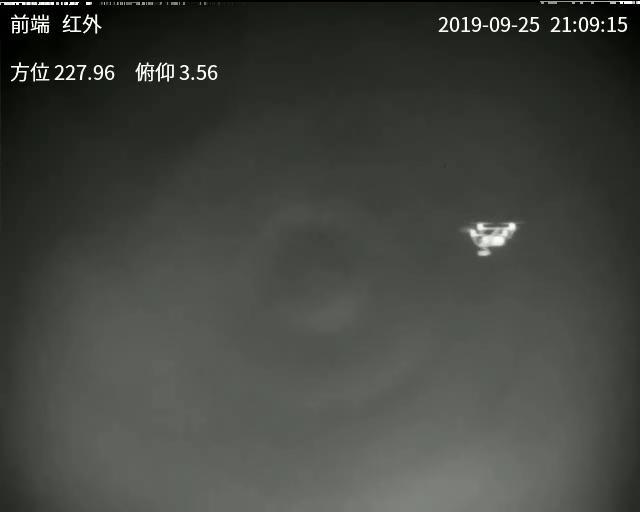uav: (463, 220, 521, 260)
